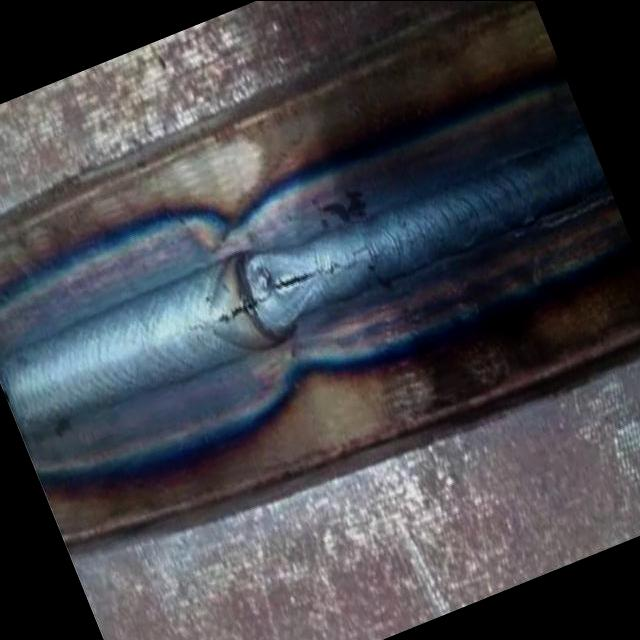defect: (216, 241, 383, 331)
